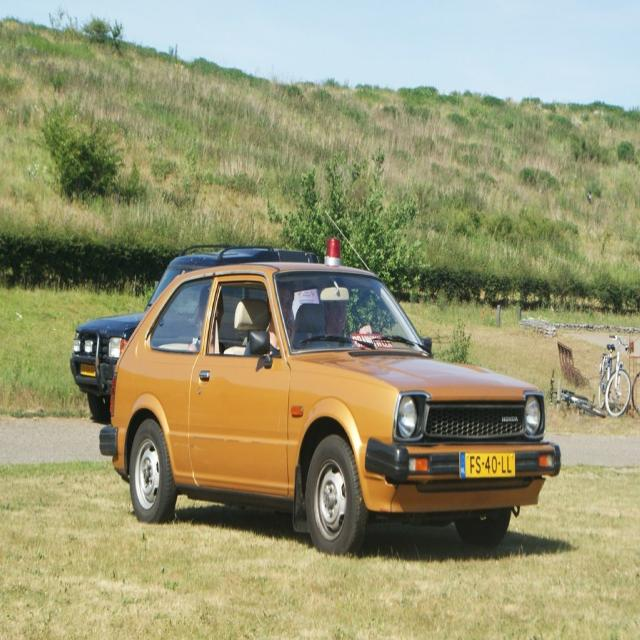car: (98, 208, 560, 553)
